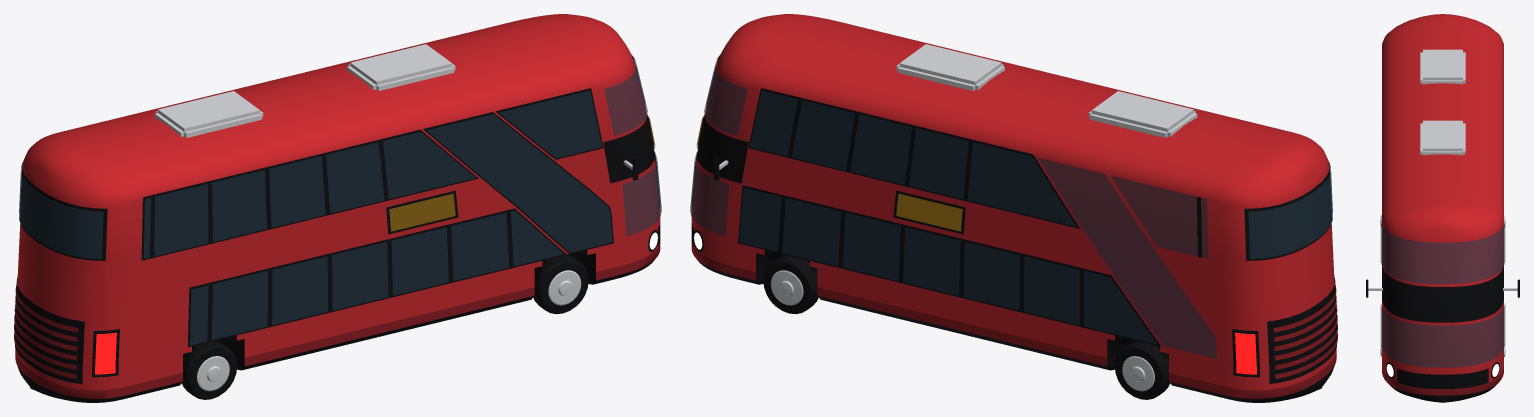
The model's file is bus-original-poc.glb.
The picture shows the model from 3 angles, left to right: view 1: azimuth 30°, elevation 25°; view 2: azimuth 150°, elevation 25°; view 3: azimuth 270°, elevation 25°; orthographic projection. The views are drawn at different scales.
Parts seen in each view (by area): view 1: Body, Glass, FR, RR, Display, Lights; view 2: Body, Glass, FL, RL, Display, Lights; view 3: Body, Glass, Lights.
Boxes of the visible parts, box(x1,y1,x2,y2) form: Body: box(14, 14, 660, 402); Glass: box(19, 54, 661, 345); FR: box(533, 255, 588, 314); RR: box(182, 341, 237, 399); Display: box(389, 114, 655, 231); Lights: box(95, 232, 657, 374); Body: box(691, 14, 1337, 402); Glass: box(690, 54, 1332, 358); FL: box(763, 255, 818, 314); RL: box(1114, 341, 1169, 399); Display: box(696, 114, 962, 231); Lights: box(694, 232, 1256, 374); Body: box(1366, 14, 1519, 402); Glass: box(1380, 222, 1505, 367); Lights: box(1386, 364, 1499, 376).
Size of the model in its own units: 11.24 by 4.4 by 3.21.
